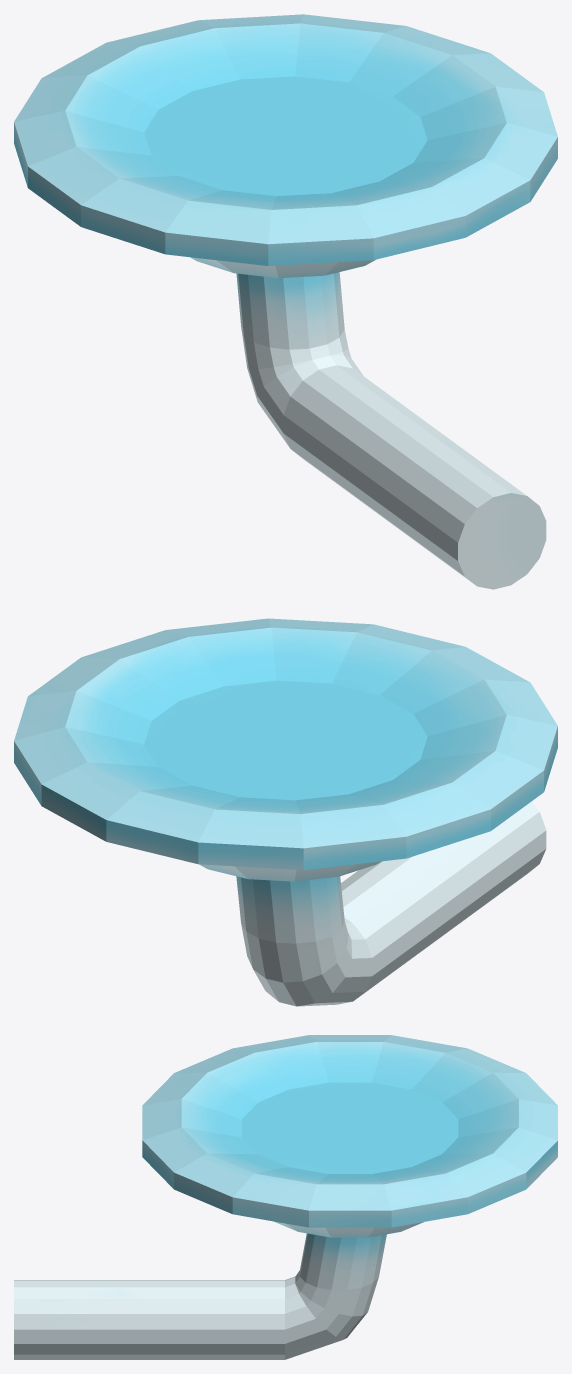
The model's file is blue oyster shrooms sin.fbx.
The picture shows the model from 3 angles, top to bottom: view 1: azimuth 30°, elevation 25°; view 2: azimuth 150°, elevation 25°; view 3: azimuth 270°, elevation 25°; orthographic projection. The views are drawn at different scales.
Parts seen in each view (by area): view 1: Cylinder.001; view 2: Cylinder.001; view 3: Cylinder.001.
Boxes of the visible parts, x1,y1,x2,y2 form: Cylinder.001: (14,14,557,589); Cylinder.001: (14,618,557,1006); Cylinder.001: (14,1035,557,1359).
Bounding box in the file's own units: 145 × 93.23 × 189.
Materials: 1 (1 with a texture image).
